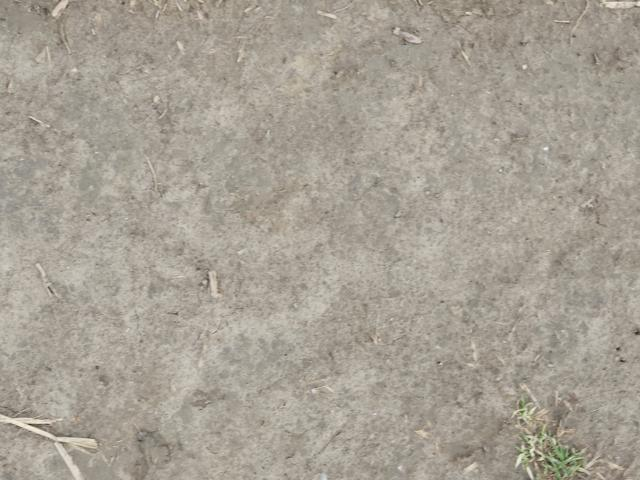bad weed: (507, 383, 597, 480)
